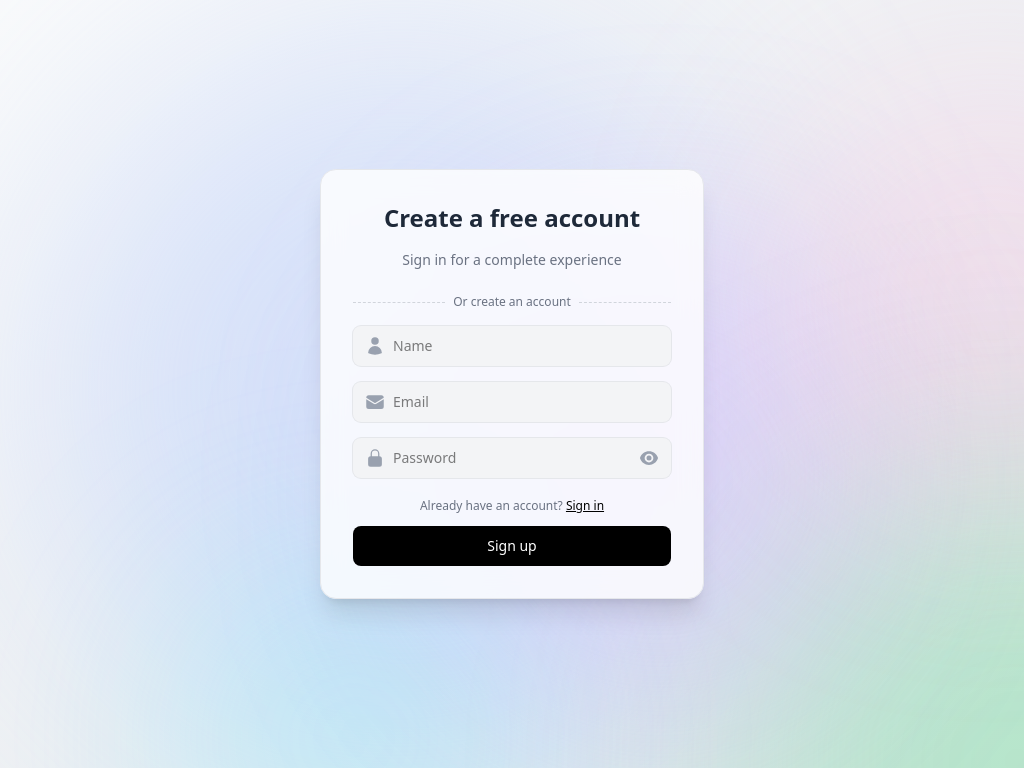
Test case: CreateAccount › surfaces server error when email is taken
Type "John Doe" into the field with placeholder "Name".
click(512, 346); type("John Doe")  # box x1=353 y1=326 x2=671 y2=366
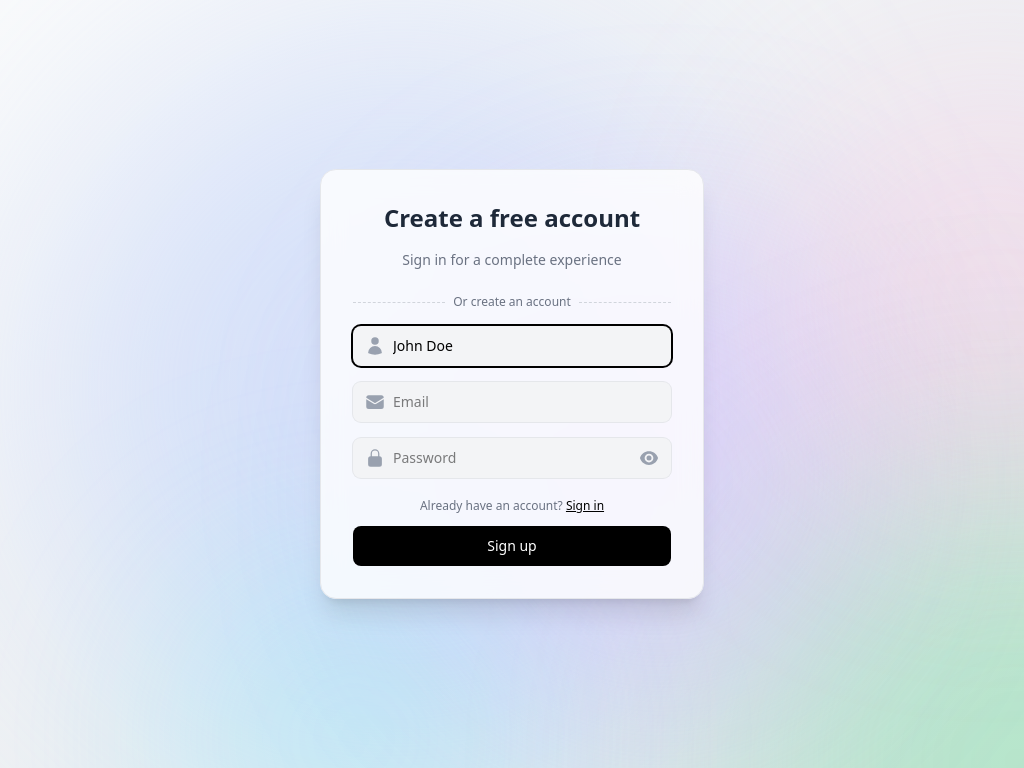
Type "john@test.com" into the field with placeholder "Email".
click(512, 402); type("john@test.com")  # box x1=353 y1=382 x2=671 y2=422
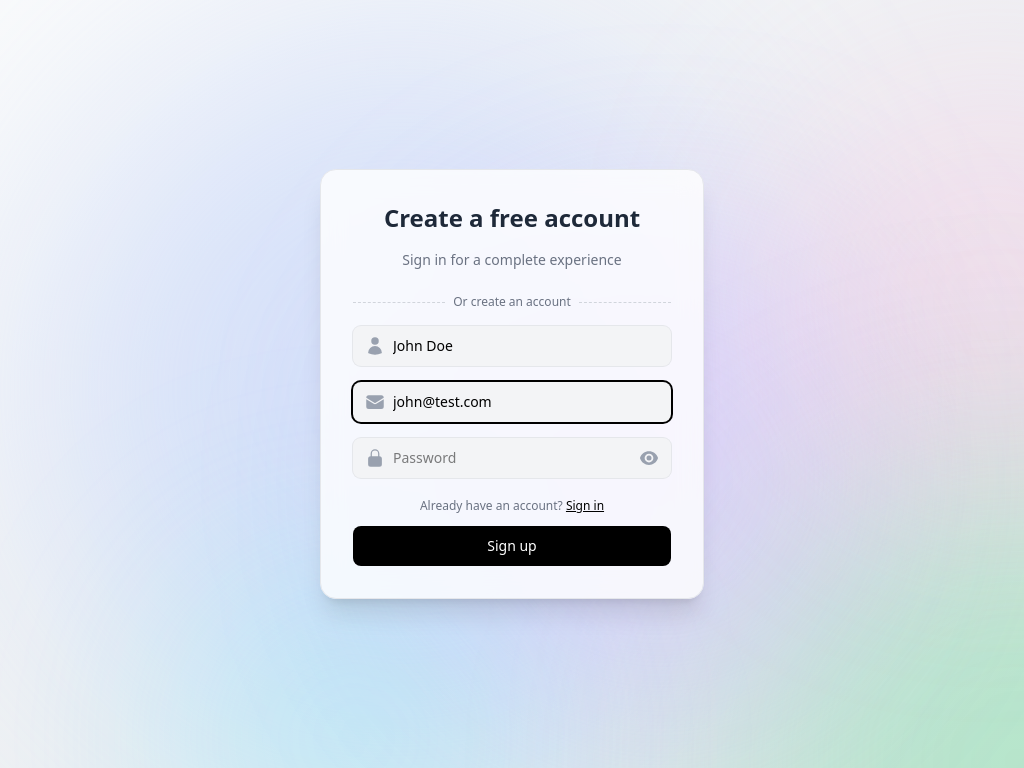
Type "Str0ng!Pass" into the password field with placeholder "Password".
click(512, 458); type("Str0ng!Pass")  # box x1=353 y1=438 x2=671 y2=478
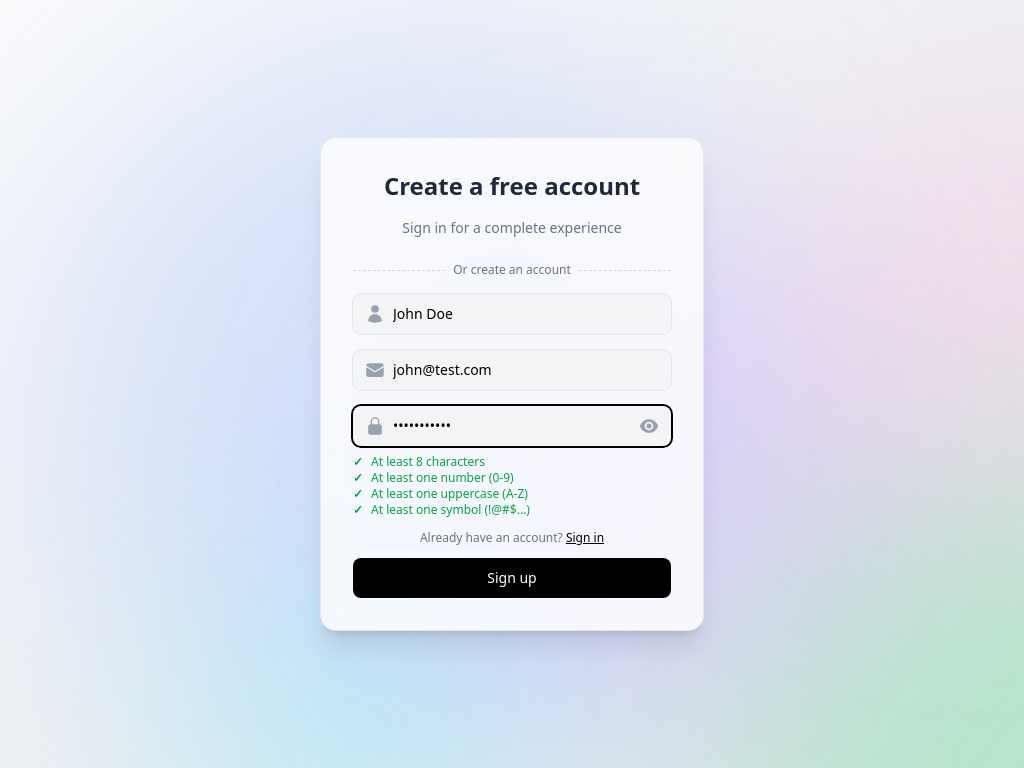
Click the button "Sign up".
click(512, 578)  # box x1=353 y1=558 x2=671 y2=598
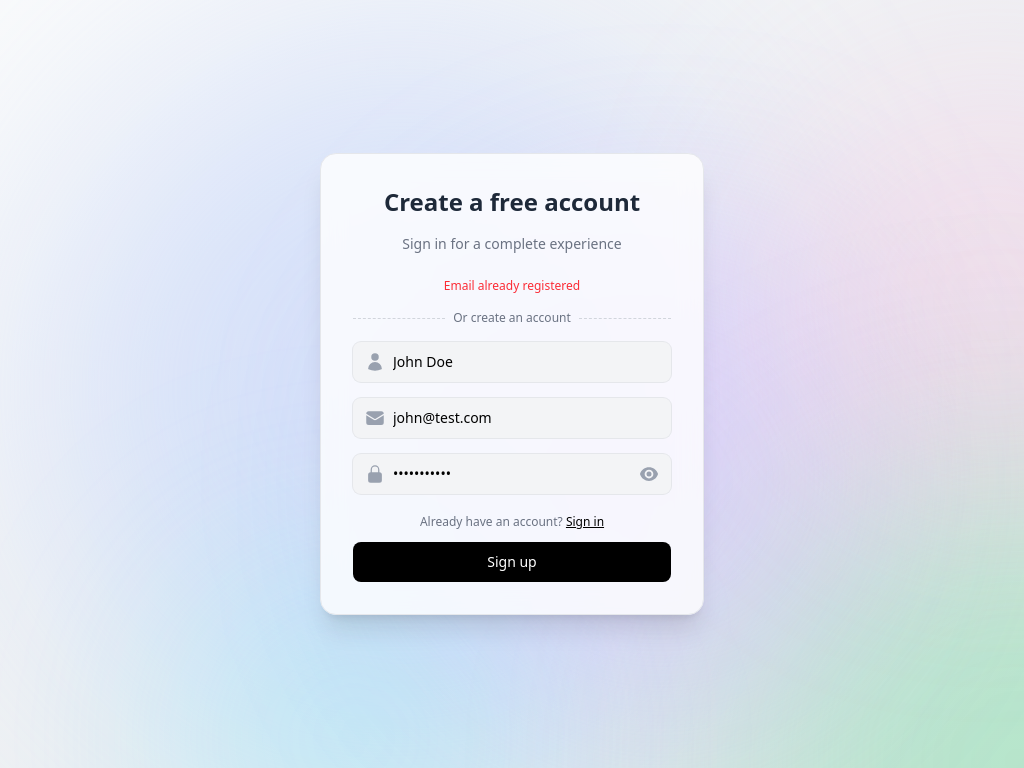
Now the text "Email already registered" is shown, box x1=444 y1=277 x2=580 y2=294
